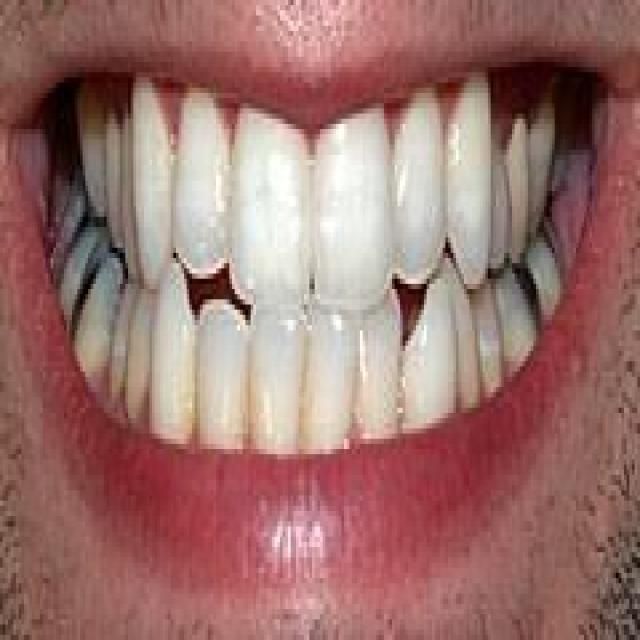tooth: (229, 98, 312, 305), (310, 134, 390, 305), (192, 294, 259, 465), (179, 78, 229, 264), (125, 67, 171, 268), (448, 88, 491, 274), (403, 88, 437, 284), (266, 315, 306, 459), (165, 279, 200, 423), (410, 304, 450, 428), (368, 299, 403, 439), (323, 300, 352, 454), (88, 253, 115, 387), (106, 119, 130, 258), (453, 274, 475, 398), (77, 108, 101, 212), (525, 119, 547, 222), (531, 232, 560, 310), (134, 299, 150, 418), (475, 289, 496, 372), (499, 289, 525, 356), (512, 129, 525, 253), (496, 134, 507, 258), (117, 279, 128, 392)
